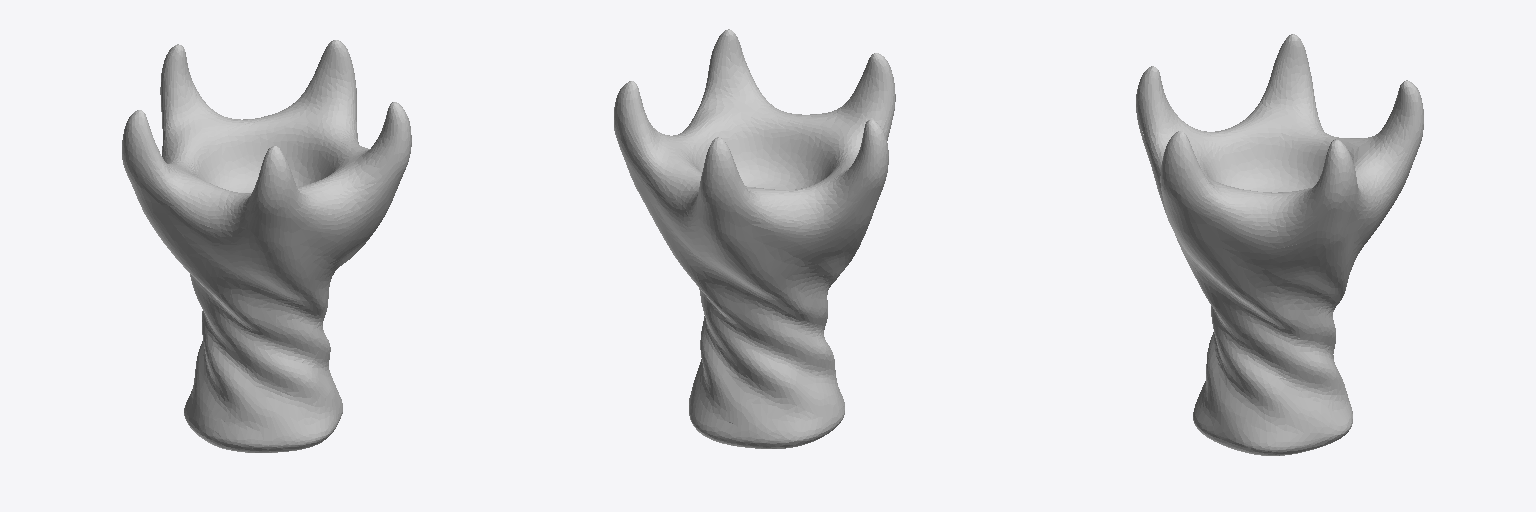
The model's file is eat-twist.obj.
The picture shows the model from 3 angles: view 1: azimuth 30°, elevation 25°; view 2: azimuth 150°, elevation 25°; view 3: azimuth 270°, elevation 25°; orthographic projection.
Parts seen in each view (by area): view 1: Quad_Sphere; view 2: Quad_Sphere; view 3: Quad_Sphere.
Boxes of the visible parts, box(x1,y1,x2,y2) form: Quad_Sphere: box(122, 40, 411, 452); Quad_Sphere: box(614, 29, 895, 448); Quad_Sphere: box(1136, 34, 1423, 455).
Size of the model in its own units: 3.71 by 4.8 by 3.71.